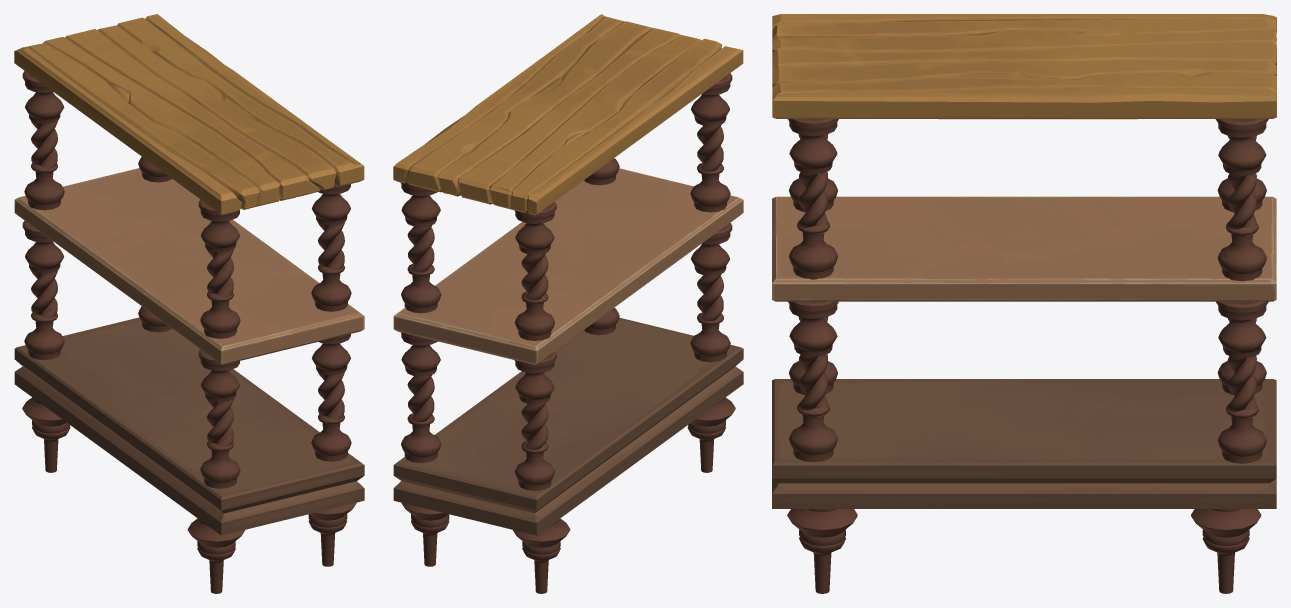
File: ThreeTierShelf.fbx
3 views of the same model, side by side, from view 1: azimuth 30°, elevation 25°; view 2: azimuth 150°, elevation 25°; view 3: azimuth 270°, elevation 25° (orthographic). The views are drawn at different scales.
Parts seen in each view (by area): view 1: BaseShelf, TopShelf, MiddleShelf (1), middleStickPart3 (×6), middleStickPart2 (×6), middleStickPart1 (×2), middleStickPart1 (2) (×2), middleStickPart1 (1) (×2), footStick (2), footStick, footStick (3), middleStickPart1 (3) (×2); view 2: BaseShelf, TopShelf, MiddleShelf (1), middleStickPart3 (×6), middleStickPart2 (×6), middleStickPart1 (3) (×2), middleStickPart1 (2) (×2), middleStickPart1 (×2), footStick, footStick (2), footStick (1), middleStickPart1 (1) (×2); view 3: BaseShelf, TopShelf, MiddleShelf (1), middleStickPart3 (×4), middleStickPart2 (×4), middleStickPart1 (3) (×2), middleStickPart1 (1) (×2), footStick (1), footStick (3).
Part boxes in pixels (box(x1,y1,x2,y2)): BaseShelf: box(14, 317, 364, 535); TopShelf: box(14, 14, 364, 215); MiddleShelf (1): box(14, 168, 364, 364); middleStickPart3 (×6): box(22, 71, 350, 402); middleStickPart2 (×6): box(31, 121, 344, 447); middleStickPart1 (×2): box(200, 291, 240, 488); middleStickPart1 (2) (×2): box(24, 163, 64, 360); middleStickPart1 (1) (×2): box(311, 264, 351, 461); footStick (2): box(187, 518, 244, 593); footStick: box(22, 397, 70, 472); footStick (3): box(308, 502, 356, 566); middleStickPart1 (3) (×2): box(138, 157, 172, 332); BaseShelf: box(393, 317, 743, 535); TopShelf: box(393, 14, 743, 215); MiddleShelf (1): box(393, 168, 743, 364); middleStickPart3 (×6): box(401, 73, 732, 404); middleStickPart2 (×6): box(407, 124, 723, 452); middleStickPart1 (3) (×2): box(401, 264, 441, 463); middleStickPart1 (2) (×2): box(514, 291, 554, 490); middleStickPart1 (×2): box(690, 163, 730, 362); footStick: box(513, 518, 570, 593); footStick (2): box(687, 397, 735, 472); footStick (1): box(401, 502, 449, 566); middleStickPart1 (1) (×2): box(584, 158, 619, 335); BaseShelf: box(772, 379, 1276, 508); TopShelf: box(772, 14, 1276, 119); MiddleShelf (1): box(772, 196, 1276, 301); middleStickPart3 (×4): box(788, 119, 1268, 358); middleStickPart2 (×4): box(798, 171, 1256, 417); middleStickPart1 (3) (×2): box(1217, 222, 1266, 463); middleStickPart1 (1) (×2): box(788, 220, 837, 462); footStick (1): box(1191, 509, 1261, 593); footStick (3): box(787, 509, 857, 593).
Size of the model in its own units: 4.51 by 11.03 by 10.
